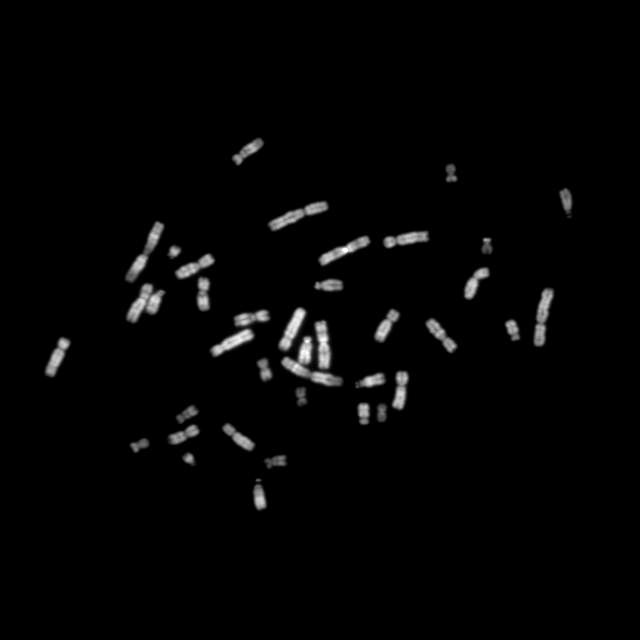chromosome: (127, 222, 163, 282), (281, 357, 343, 387), (270, 200, 328, 232), (318, 236, 369, 266), (278, 306, 306, 352), (210, 329, 253, 357), (126, 281, 152, 323), (534, 288, 552, 348), (176, 253, 214, 280), (426, 318, 456, 352), (45, 337, 69, 378), (223, 422, 254, 450), (374, 308, 398, 342), (384, 230, 428, 248), (234, 138, 262, 166), (465, 268, 489, 300), (314, 320, 330, 368), (392, 371, 408, 409), (234, 310, 270, 326), (169, 426, 199, 444), (354, 372, 386, 388), (148, 290, 164, 318), (298, 336, 312, 366), (253, 480, 267, 510), (197, 277, 209, 311), (560, 188, 572, 218), (257, 357, 271, 381), (177, 408, 197, 424), (506, 321, 520, 341), (315, 280, 343, 290), (266, 456, 286, 470), (132, 437, 148, 453), (296, 386, 308, 406), (358, 404, 369, 424), (445, 165, 457, 183), (377, 404, 387, 424), (481, 238, 493, 254), (184, 452, 196, 466), (168, 245, 180, 259)
